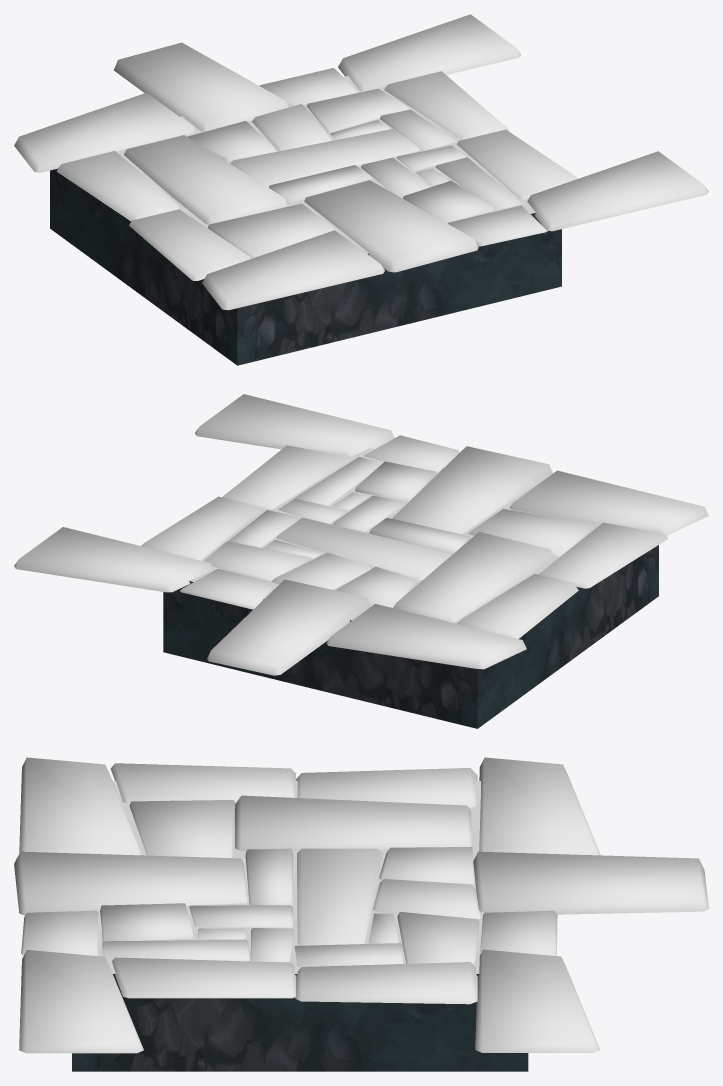
Rendered from FloorTile.fbx.
3 views of the same model, one above another, from view 1: azimuth 30°, elevation 25°; view 2: azimuth 150°, elevation 25°; view 3: azimuth 270°, elevation 25° (orthographic). The views are drawn at different scales.
Parts seen in each view (by area): view 1: Floor_Tile, Cobble_19, Cobble_16, Cobble_24, Cobble_4, Cobble_22, Cobble_1, Cobble_21, Cobble_12, Cobble_26, Cobble_25, Cobble_3 (+14 smaller); view 2: Floor_Tile, Cobble_16, Cobble_19, Cobble_21, Cobble_22, Cobble_1, Cobble_4, Cobble_24, Cobble_12, Cobble_26, Cobble_3, Cobble_25 (+13 smaller); view 3: Floor_Tile, Cobble_16, Cobble_19, Cobble_22, Cobble_4, Cobble_1, Cobble_24, Cobble_21, Cobble_12, Cobble_2, Cobble_3, Cobble_26 (+15 smaller).
Part boxes in pixels (box(x1,y1,x2,y2)): Floor_Tile: box(50, 76, 561, 365); Cobble_19: box(304, 180, 478, 272); Cobble_16: box(113, 42, 288, 131); Cobble_24: box(202, 230, 384, 310); Cobble_4: box(527, 151, 708, 231); Cobble_22: box(124, 135, 288, 224); Cobble_1: box(338, 14, 520, 91); Cobble_21: box(14, 92, 195, 172); Cobble_12: box(230, 129, 419, 187); Cobble_26: box(129, 209, 251, 280); Cobble_25: box(57, 151, 180, 221); Cobble_3: box(457, 129, 577, 199); Floor_Tile: box(163, 448, 658, 728); Cobble_16: box(207, 579, 370, 675); Cobble_19: box(392, 446, 552, 534); Cobble_21: box(326, 603, 526, 669); Cobble_22: box(393, 532, 554, 622); Cobble_1: box(14, 527, 213, 592); Cobble_4: box(195, 394, 394, 456); Cobble_24: box(510, 470, 708, 535); Cobble_12: box(276, 517, 451, 580); Cobble_26: box(539, 522, 668, 588); Cobble_3: box(222, 445, 350, 509); Cobble_25: box(457, 574, 578, 638); Floor_Tile: box(72, 781, 528, 1071); Cobble_16: box(473, 851, 708, 914); Cobble_19: box(14, 851, 247, 915); Cobble_22: box(235, 795, 471, 851); Cobble_4: box(19, 950, 143, 1053); Cobble_1: box(475, 949, 599, 1052); Cobble_24: box(19, 757, 141, 855); Cobble_21: box(479, 757, 600, 855); Cobble_12: box(297, 848, 382, 945); Cobble_2: box(294, 962, 477, 1004); Cobble_3: box(112, 957, 295, 998); Cobble_26: box(110, 763, 295, 803).
Size of the model in its own units: 300 by 52.39 by 305.
